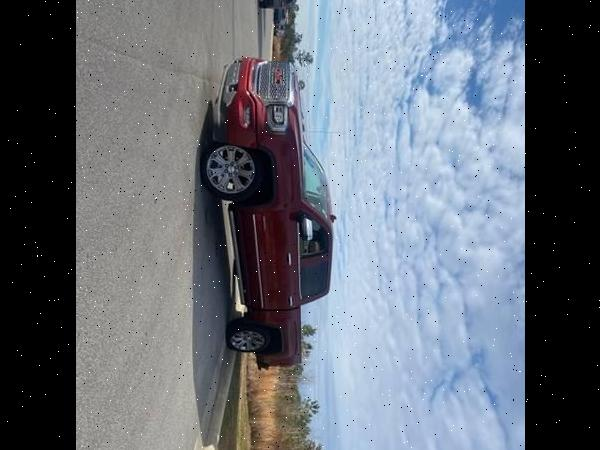Front_Bumper: (215, 57, 265, 148)
Front_Fender: (231, 130, 299, 213)
Front_Left_Door: (235, 209, 298, 270)
Front_Left_Window: (298, 212, 330, 264)
Front_Windshield: (299, 138, 327, 217)
Grille: (252, 60, 293, 105)
Hood: (288, 65, 303, 201)
Left_Headlight: (265, 104, 287, 135)
Rear_Fender: (249, 308, 300, 368)
Rear_Left_Door: (243, 264, 299, 311)
Rear_Left_Window: (298, 259, 329, 305)
Roof: (298, 176, 335, 308)
Wheel: (202, 144, 262, 200), (226, 318, 271, 355)
